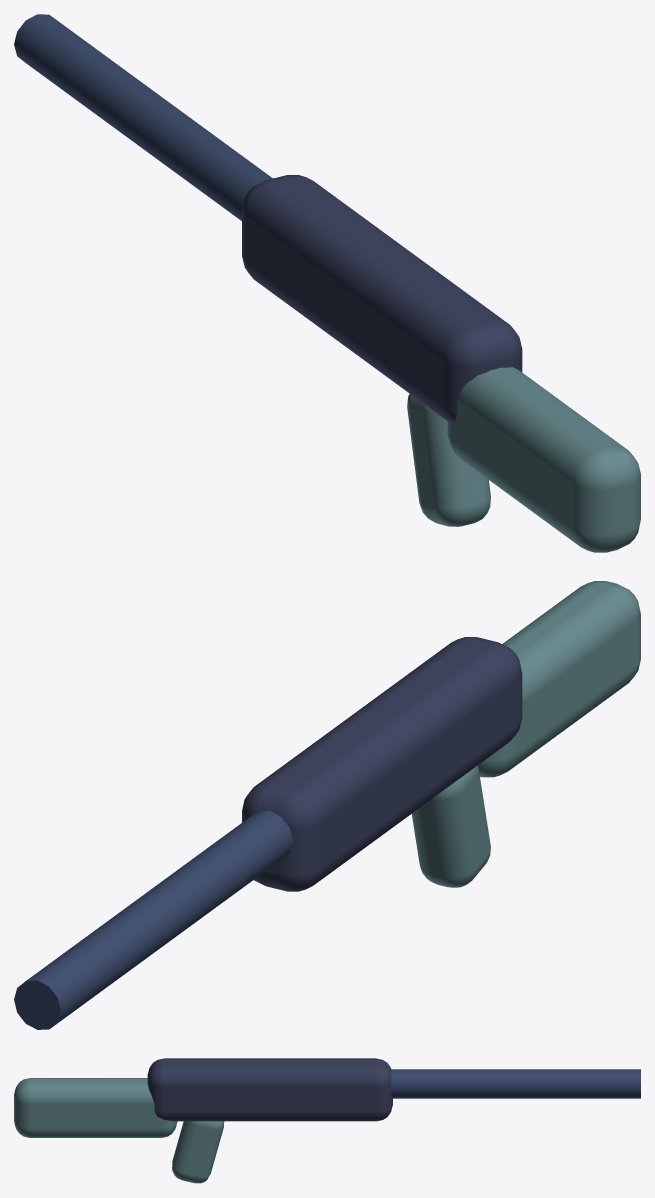
File: placeholder_m16a1.glb
3 views of the same model, one above another, from view 1: azimuth 30°, elevation 25°; view 2: azimuth 150°, elevation 25°; view 3: azimuth 270°, elevation 25° (orthographic). The views are drawn at different scales.
Parts seen in each view (by area): view 1: placeholder_m16a1, body; view 2: placeholder_m16a1, body; view 3: placeholder_m16a1, body.
Boxes of the visible parts, box(x1,y1,x2,y2) form: placeholder_m16a1: box(14, 14, 640, 552); body: box(242, 175, 522, 422); placeholder_m16a1: box(14, 581, 640, 1029); body: box(242, 637, 522, 891); placeholder_m16a1: box(14, 1069, 640, 1183); body: box(147, 1058, 392, 1121).
Size of the model in its own units: 0.07 by 0.1958 by 0.943.
